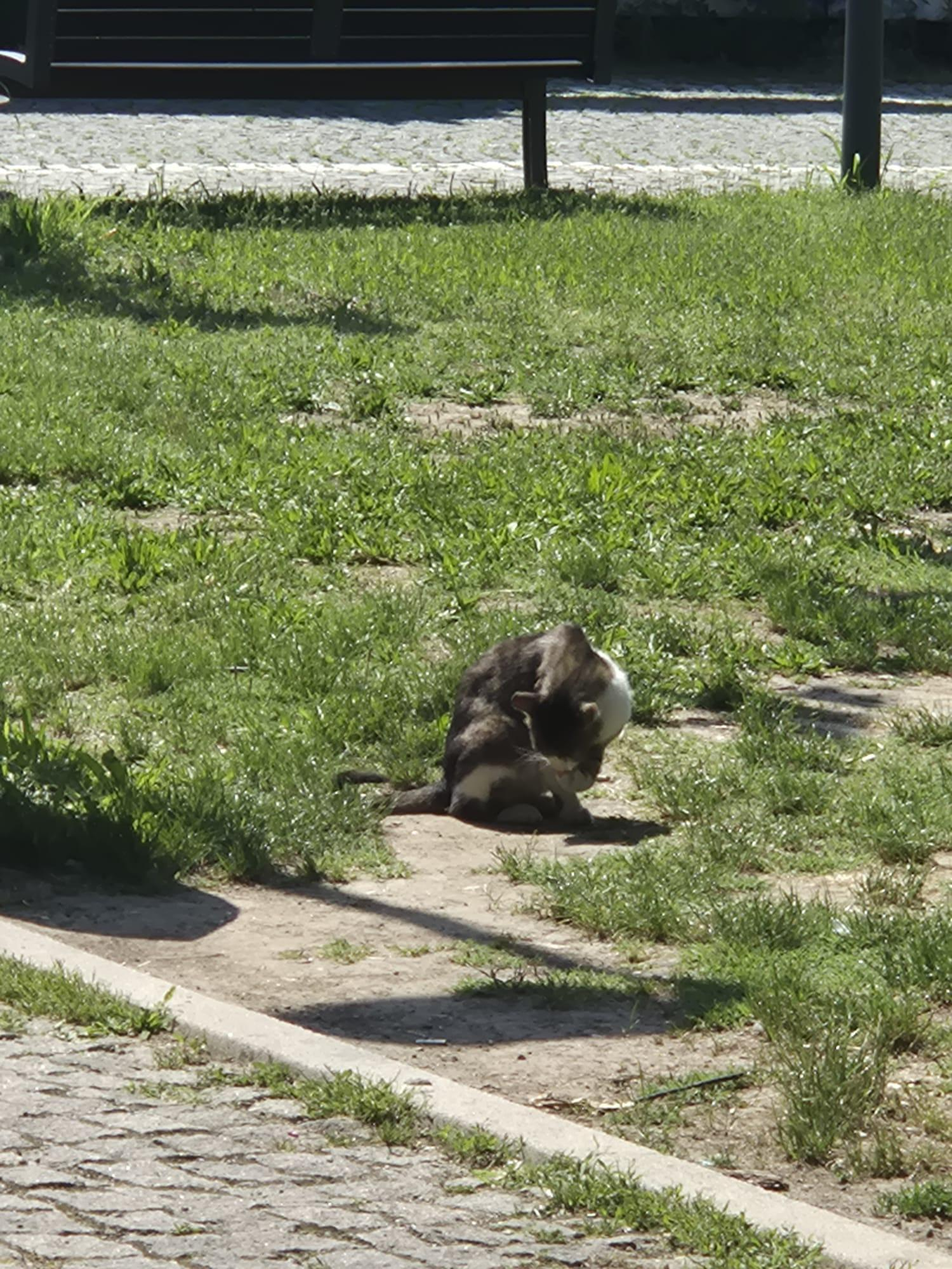macka: (334, 620, 634, 828)
